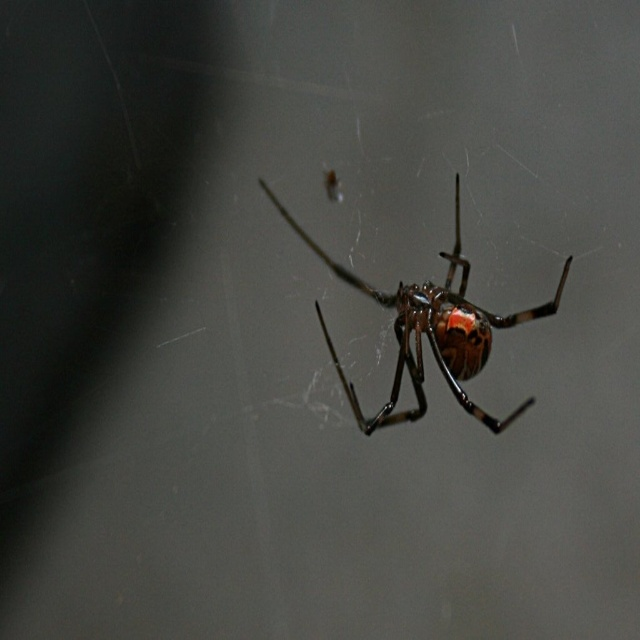Spider: (259, 172, 573, 437)
